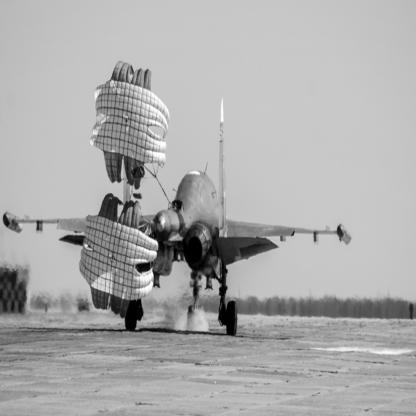Su34: (4, 97, 354, 337)
